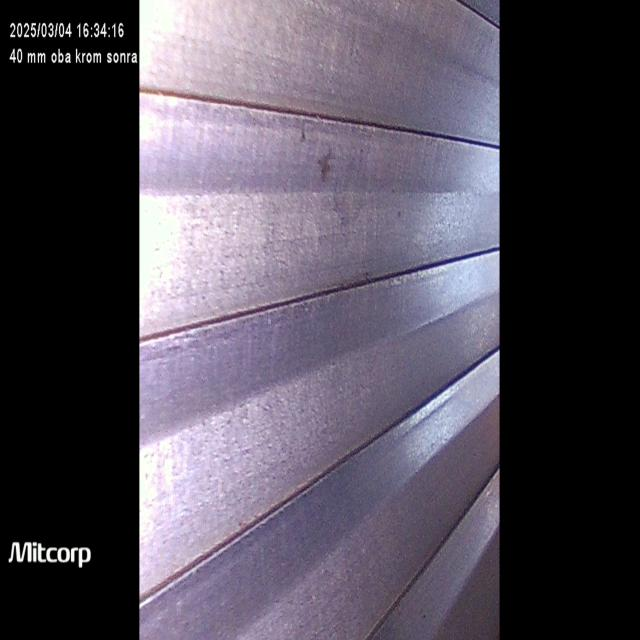hata_4.2: (293, 107, 347, 213)
